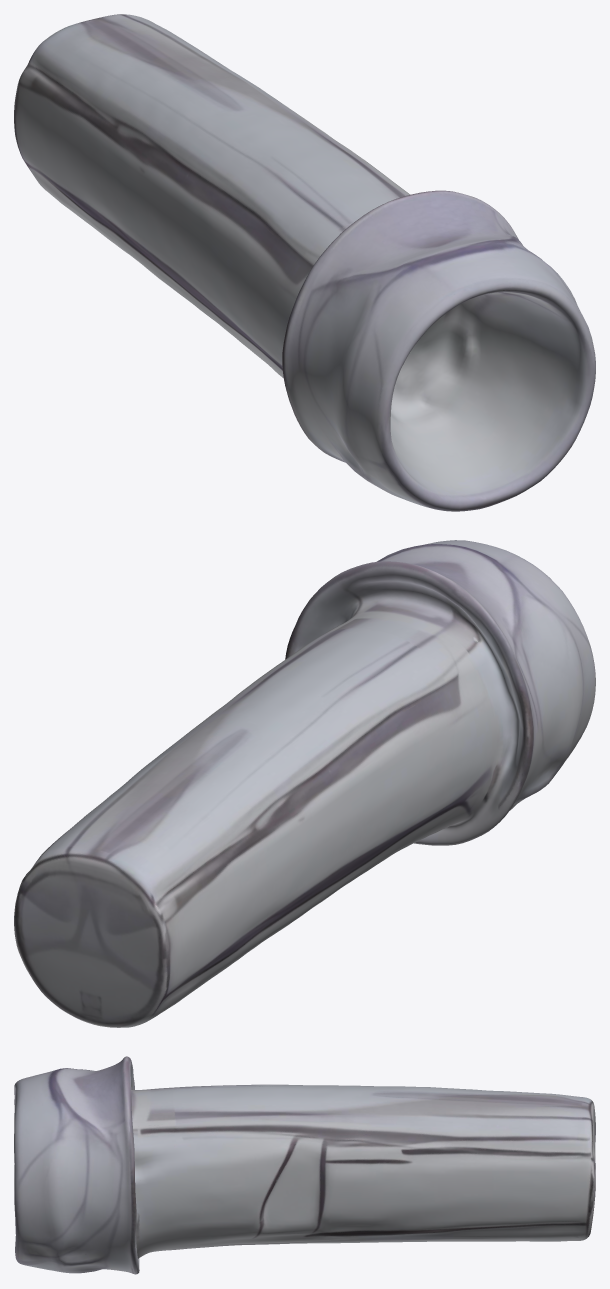
The model's file is 氧氣導管頭.fbx.
3 renders of one model, top to bottom at view 1: azimuth 30°, elevation 25°; view 2: azimuth 150°, elevation 25°; view 3: azimuth 270°, elevation 25°, orthographic. The views are drawn at different scales.
Parts seen in each view (by area): view 1: tripo_node_c3bb65bf-625f-4d0a-bcdc-1db497803320; view 2: tripo_node_c3bb65bf-625f-4d0a-bcdc-1db497803320; view 3: tripo_node_c3bb65bf-625f-4d0a-bcdc-1db497803320.
Boxes of the visible parts, x1,y1,x2,y2 form: tripo_node_c3bb65bf-625f-4d0a-bcdc-1db497803320: [14, 14, 595, 511]; tripo_node_c3bb65bf-625f-4d0a-bcdc-1db497803320: [14, 540, 595, 1027]; tripo_node_c3bb65bf-625f-4d0a-bcdc-1db497803320: [14, 1056, 595, 1274].
Size of the model in its own units: 36.82 by 38.31 by 103.
